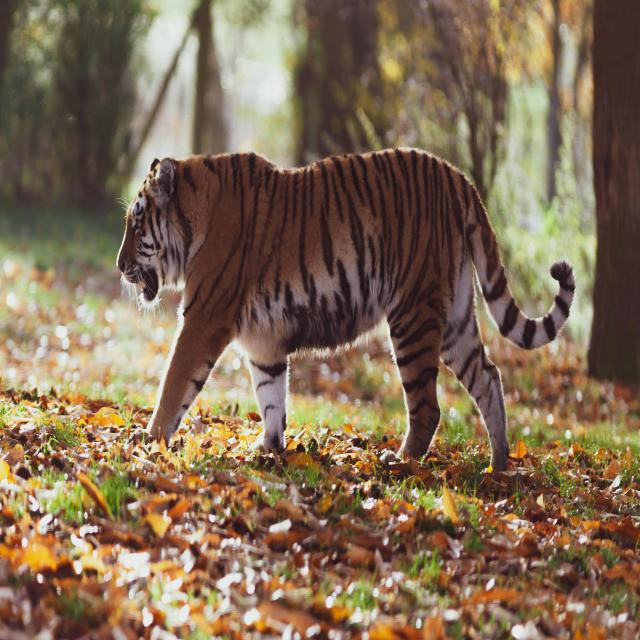Tiger: (117, 148, 576, 472)
